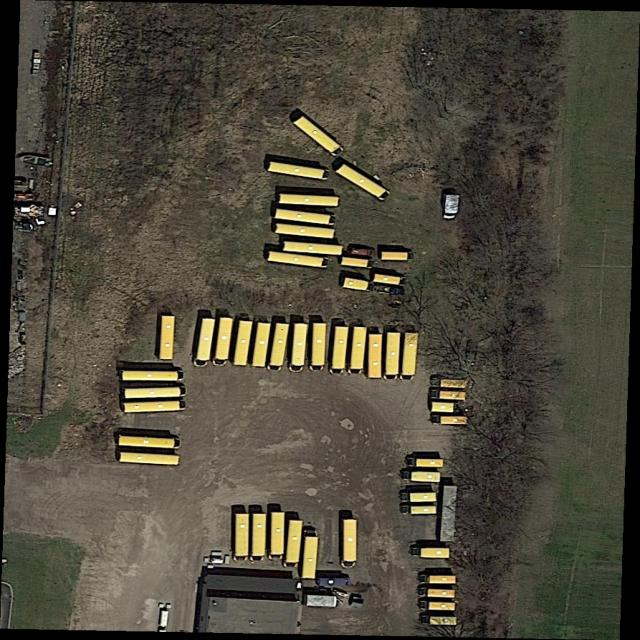large-vehicle: (335, 164, 392, 201), (294, 115, 345, 156), (267, 160, 329, 181), (273, 208, 338, 226), (267, 251, 329, 269), (195, 317, 216, 366), (269, 323, 290, 371), (274, 223, 336, 239), (231, 319, 252, 366), (285, 520, 305, 569), (290, 323, 310, 371), (213, 317, 233, 365), (278, 193, 342, 208), (284, 241, 344, 256), (330, 325, 348, 374), (123, 400, 186, 414), (349, 327, 367, 375), (253, 323, 272, 368), (401, 334, 419, 381), (118, 436, 182, 449), (302, 531, 319, 579), (120, 453, 180, 466), (125, 387, 187, 399), (343, 519, 358, 567), (251, 513, 266, 560), (121, 370, 184, 381), (269, 512, 283, 561), (385, 333, 400, 378), (160, 316, 175, 360), (368, 335, 383, 378), (312, 324, 326, 370), (235, 514, 249, 560), (429, 375, 472, 388), (430, 414, 472, 427), (412, 547, 450, 560), (340, 257, 376, 269), (430, 389, 467, 400), (374, 274, 407, 286), (444, 194, 459, 220), (420, 574, 455, 585), (417, 588, 457, 597), (402, 472, 441, 481), (431, 402, 465, 412), (402, 493, 436, 503), (407, 459, 444, 468), (403, 505, 436, 515), (422, 617, 457, 626), (349, 247, 376, 258), (421, 602, 458, 610), (381, 252, 414, 260)
ship: (16, 155, 54, 168)
